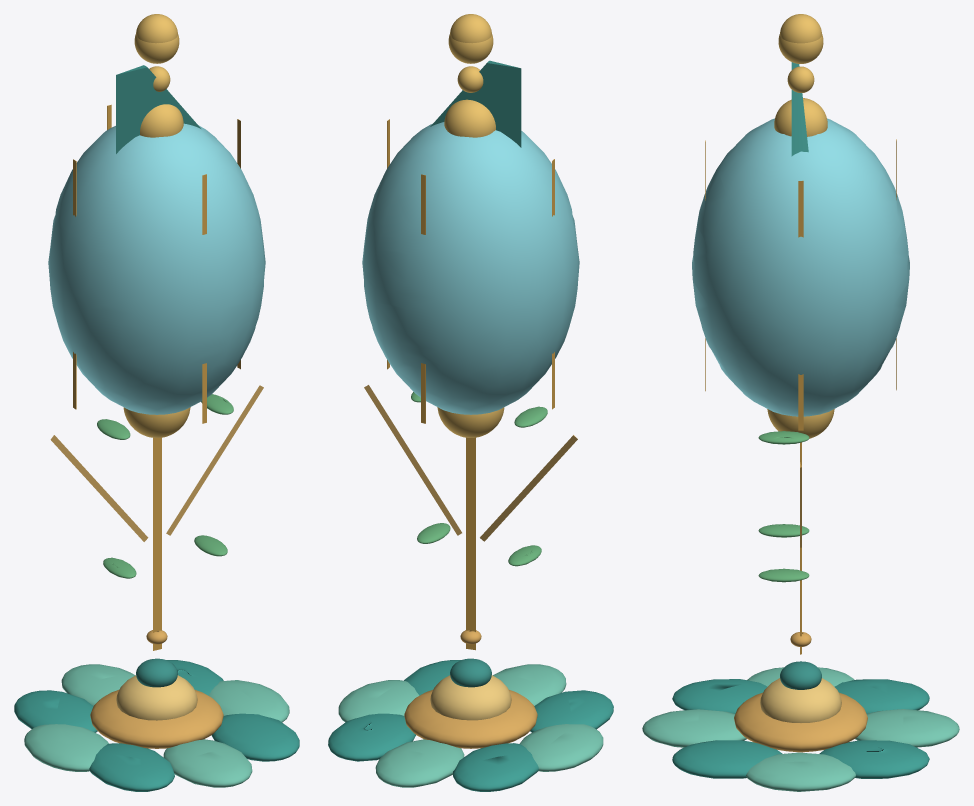
The model's file is gblb_orchard_lantern.glb.
The picture shows the model from 3 angles, left to right: view 1: azimuth 30°, elevation 25°; view 2: azimuth 150°, elevation 25°; view 3: azimuth 270°, elevation 25°; orthographic projection.
Size of the model in its own units: 0.4039 by 1.13 by 0.4495.
